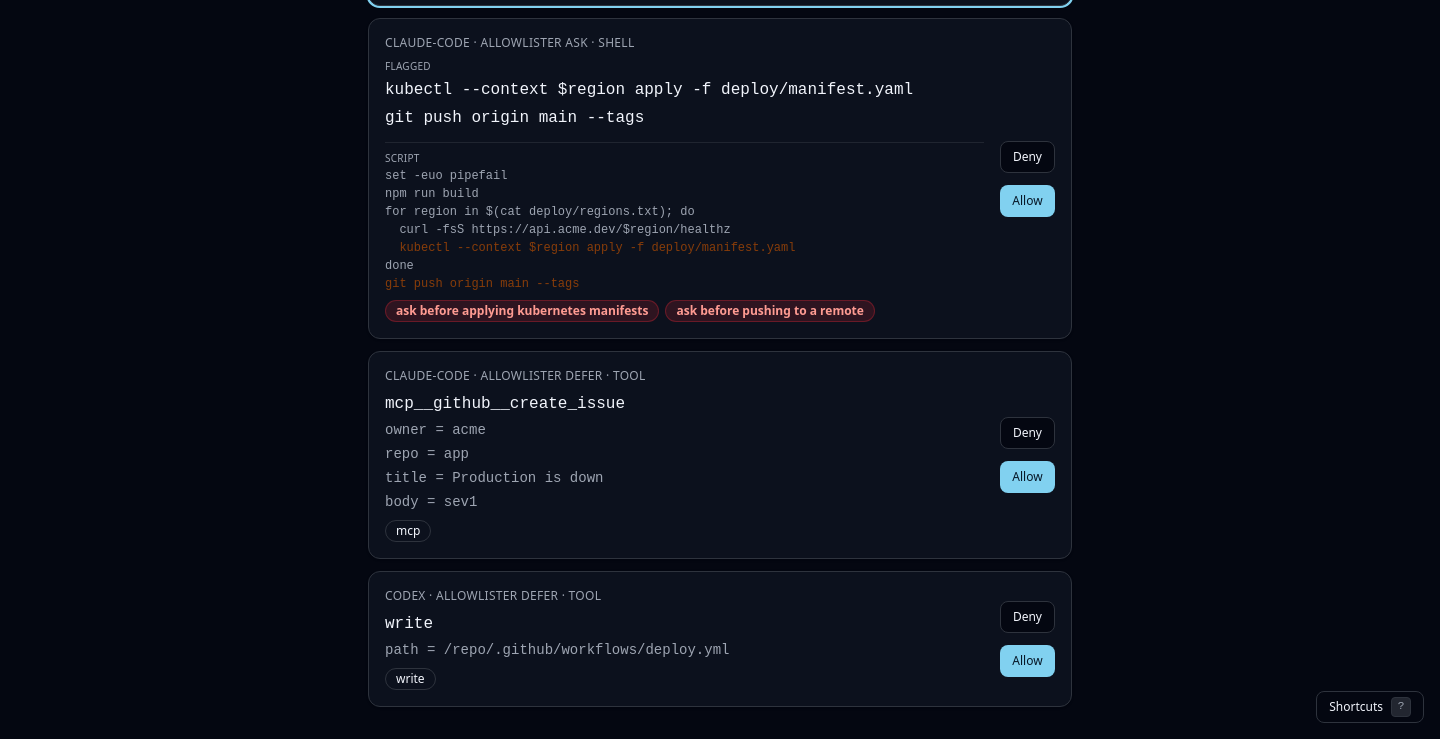
App keyboard navigation (desktop) › allows and denies an open approval from the detail view
The width and height of the screenshot is (1440, 739).
(page scrolled)
Click the button with aria-label "Open approval for mcp__github__create_issue": {"x": 428, "y": 376} [385, 368, 984, 542]
(page scrolled)
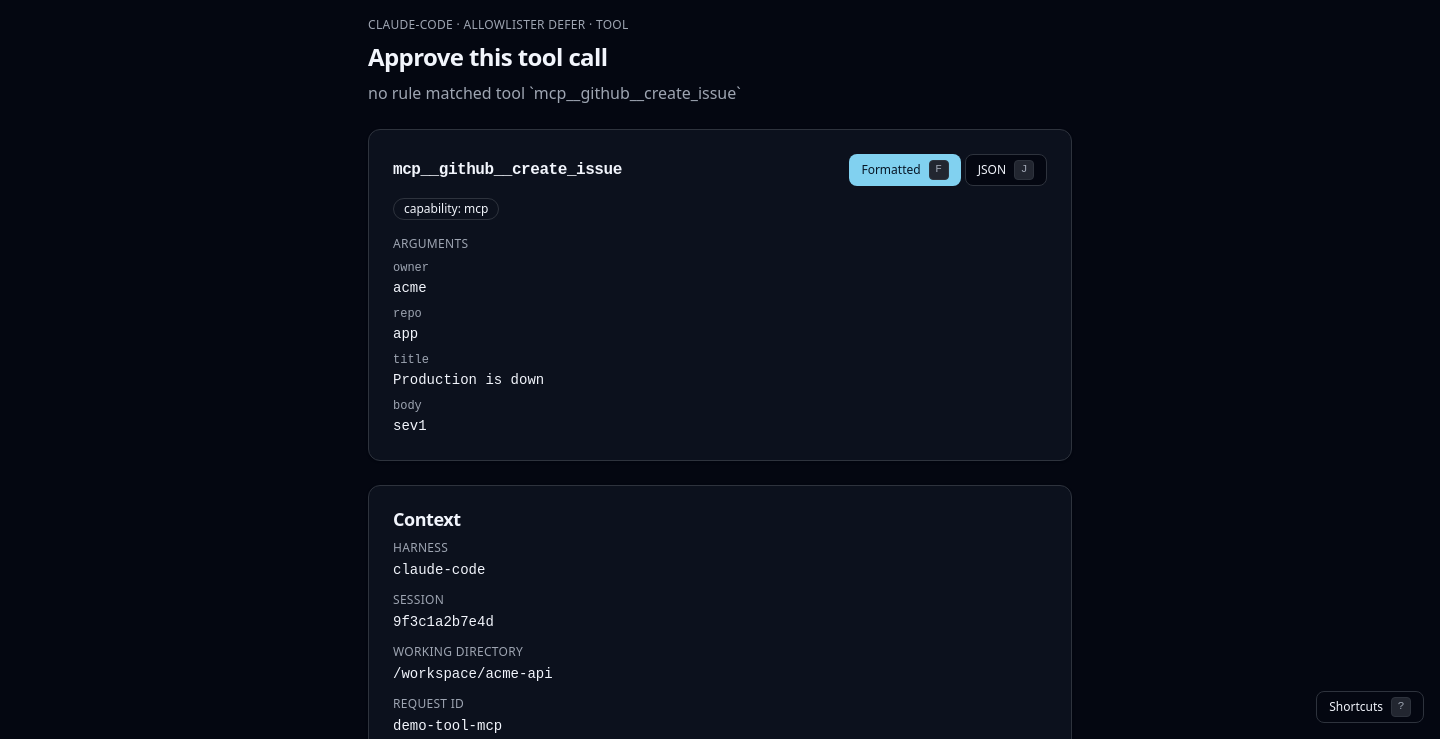
Expected: the heading "Approve this tool call" is shown, [368, 40, 608, 73]
Type keys "a"
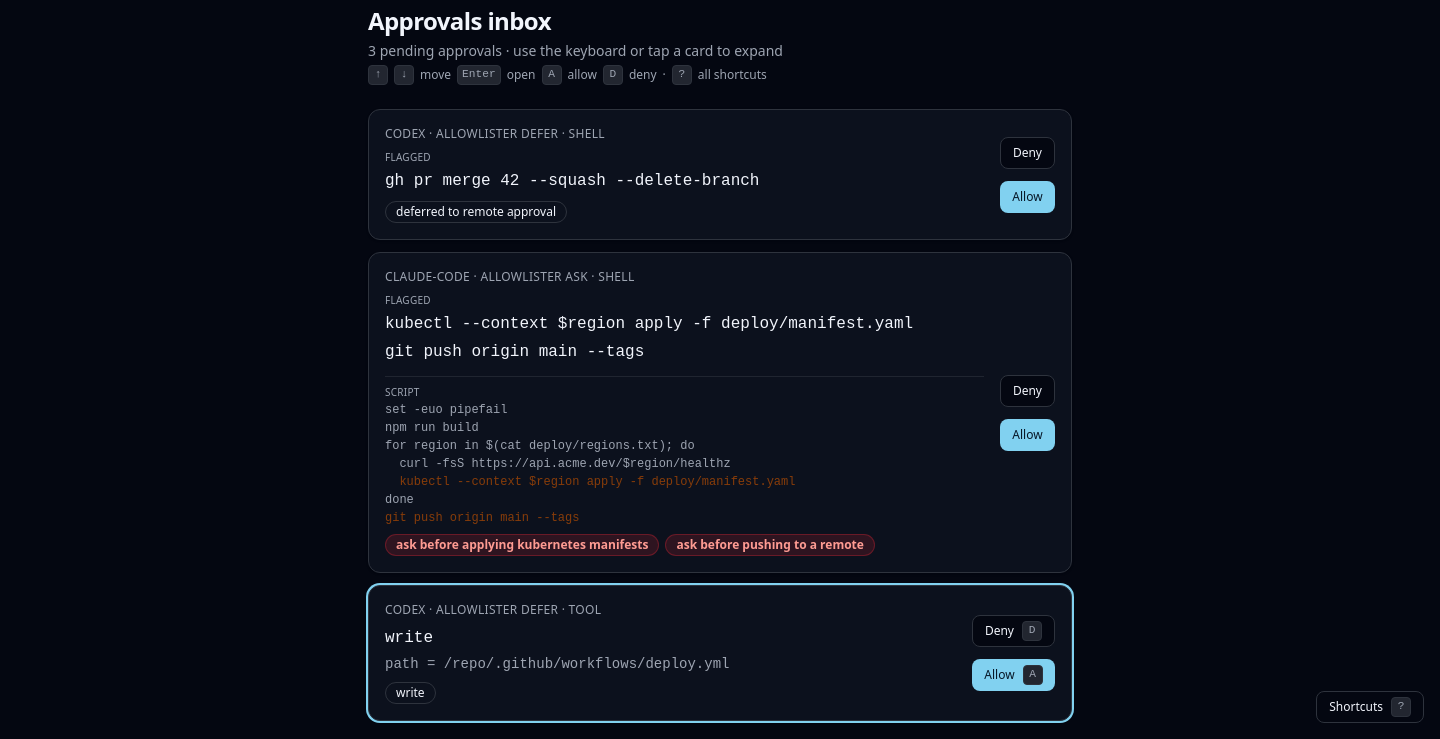
Expected: the list named "Pending approvals" is shown, [368, 109, 1072, 721]
Expected: the text "mcp__github__create_issue" is gone
